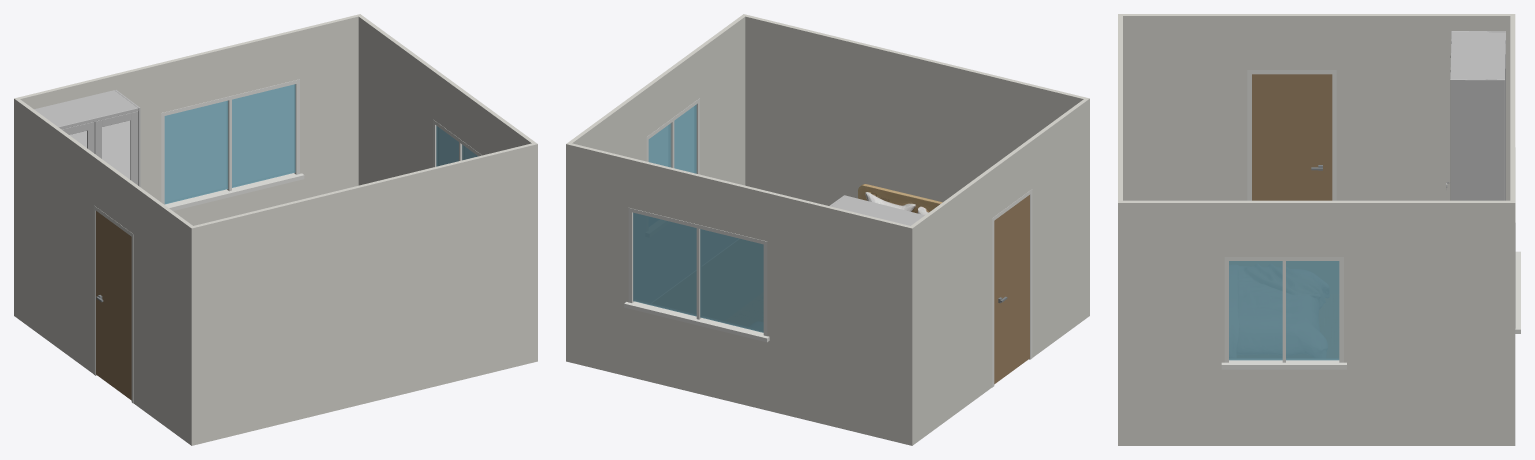
The model's file is scenesmith.glb.
3 views of the same model, side by side, from view 1: azimuth 30°, elevation 25°; view 2: azimuth 150°, elevation 25°; view 3: azimuth 270°, elevation 25° (orthographic). The views are drawn at different scales.
Parts seen in each view (by area): view 1: scene_000_bedroom_south_wall, scene_000_bedroom_west_wall, scene_000_bedroom_north_wall, scene_000_bedroom_east_wall, scene_000_bedroom_north_wall Window 0 | glazing, scene_000_bedroom_west_wall Door 0 | wood leaf, P_210768f5bbf3169b.001, scene_000_bedroom_north_wall Window 0 | jamb, P_11823adfd27b5318.001, scene_000_bedroom_west_wall Door 0 | jamb, scene_000_bedroom_east_wall Window 0 | glazing; view 2: scene_000_bedroom_north_wall, scene_000_bedroom_south_wall, scene_000_bedroom_west_wall, scene_000_bedroom_east_wall, scene_000_bedroom_north_wall Window 0 | glazing, scene_000_bedroom_west_wall Door 0 | wood leaf, scene_000_bedroom_north_wall Window 0 | jamb, scene_000_bedroom_east_wall Window 0 | glazing, furniture_group, P_210768f5bbf3169b.001, scene_000_bedroom_west_wall Door 0 | jamb, scene_000_bedroom_east_wall Window 0 | jamb; view 3: scene_000_bedroom_east_wall, scene_000_bedroom_west_wall, scene_000_bedroom_east_wall Window 0 | glazing, scene_000_bedroom_west_wall Door 0 | wood leaf, P_210768f5bbf3169b.001, scene_000_bedroom_east_wall Window 0 | jamb, scene_000_bedroom_west_wall Door 0 | jamb, scene_000_bedroom_north_wall, scene_000_bedroom_south_wall, scene_000_bedroom_north_wall Window 0 | jamb.
Part boxes in pixels (x1,y1,x2,y2): scene_000_bedroom_south_wall: [189, 143, 537, 445]; scene_000_bedroom_west_wall: [14, 97, 195, 445]; scene_000_bedroom_north_wall: [18, 15, 358, 225]; scene_000_bedroom_east_wall: [357, 14, 537, 343]; scene_000_bedroom_north_wall Window 0 | glazing: [164, 84, 295, 204]; scene_000_bedroom_west_wall Door 0 | wood leaf: [96, 211, 131, 400]; P_210768f5bbf3169b.001: [34, 90, 140, 186]; scene_000_bedroom_north_wall Window 0 | jamb: [161, 79, 304, 210]; P_11823adfd27b5318.001: [69, 120, 130, 179]; scene_000_bedroom_west_wall Door 0 | jamb: [93, 205, 133, 403]; scene_000_bedroom_east_wall Window 0 | glazing: [436, 126, 478, 166]; scene_000_bedroom_north_wall: [570, 143, 909, 444]; scene_000_bedroom_south_wall: [745, 15, 1089, 316]; scene_000_bedroom_west_wall: [908, 97, 1089, 445]; scene_000_bedroom_east_wall: [566, 14, 746, 362]; scene_000_bedroom_north_wall Window 0 | glazing: [633, 212, 763, 332]; scene_000_bedroom_west_wall Door 0 | wood leaf: [994, 195, 1029, 384]; scene_000_bedroom_north_wall Window 0 | jamb: [624, 208, 769, 342]; scene_000_bedroom_east_wall Window 0 | glazing: [648, 104, 696, 173]; furniture_group: [858, 184, 942, 215]; P_210768f5bbf3169b.001: [829, 195, 924, 225]; scene_000_bedroom_west_wall Door 0 | jamb: [992, 189, 1032, 387]; scene_000_bedroom_east_wall Window 0 | jamb: [646, 98, 699, 174]; scene_000_bedroom_east_wall: [1118, 200, 1515, 445]; scene_000_bedroom_west_wall: [1118, 14, 1515, 200]; scene_000_bedroom_east_wall Window 0 | glazing: [1229, 261, 1339, 360]; scene_000_bedroom_west_wall Door 0 | wood leaf: [1252, 74, 1332, 200]; P_210768f5bbf3169b.001: [1450, 31, 1505, 200]; scene_000_bedroom_east_wall Window 0 | jamb: [1221, 257, 1346, 369]; scene_000_bedroom_west_wall Door 0 | jamb: [1247, 70, 1336, 200]; scene_000_bedroom_north_wall: [1510, 16, 1515, 200]; scene_000_bedroom_south_wall: [1118, 16, 1122, 200]; scene_000_bedroom_north_wall Window 0 | jamb: [1515, 147, 1520, 333].
Size of the model in its own units: 4.6 by 2.71 by 4.05.
Materials: 17 (5 with a texture image).
